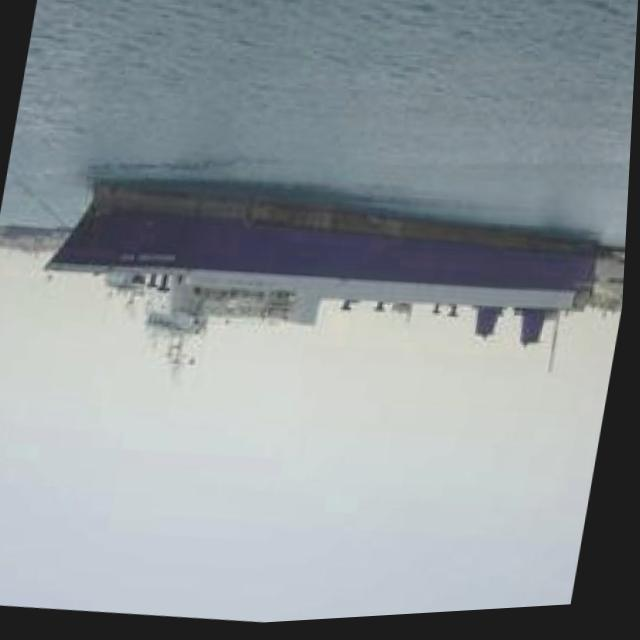ship2: (45, 185, 603, 379)
